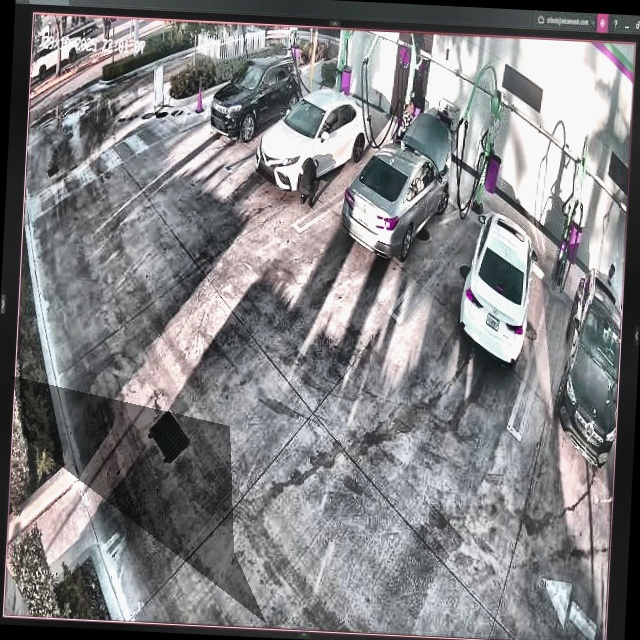Car: (342, 116, 452, 262), (255, 88, 372, 195), (457, 209, 536, 365), (210, 56, 303, 144)
